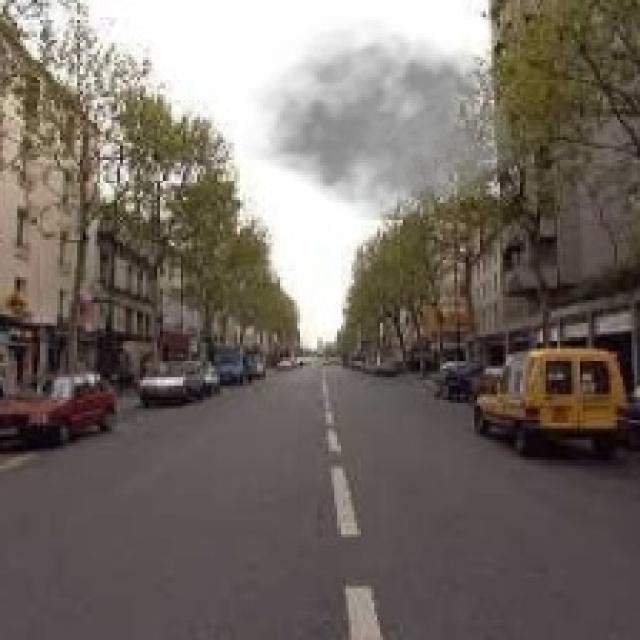smoke: (243, 17, 526, 223)
